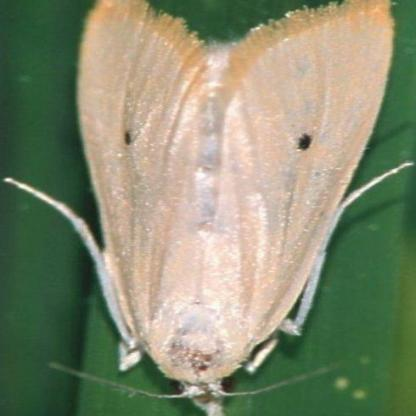stem-borer: (57, 0, 399, 416)
